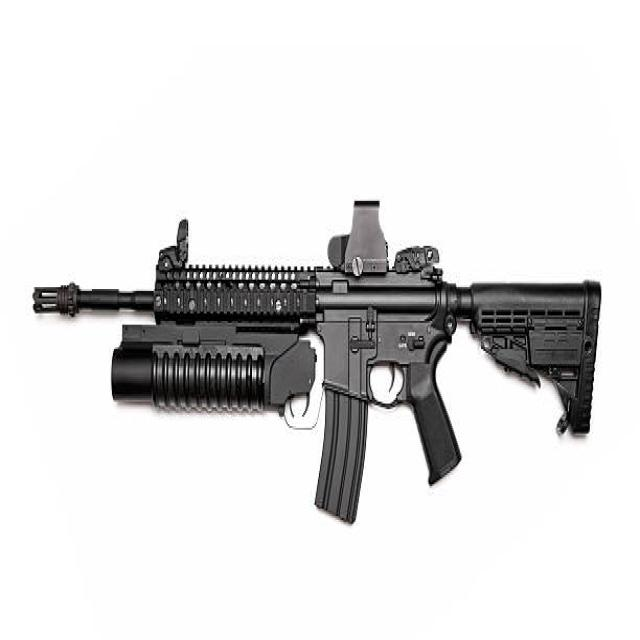rifle: (24, 187, 612, 543)
